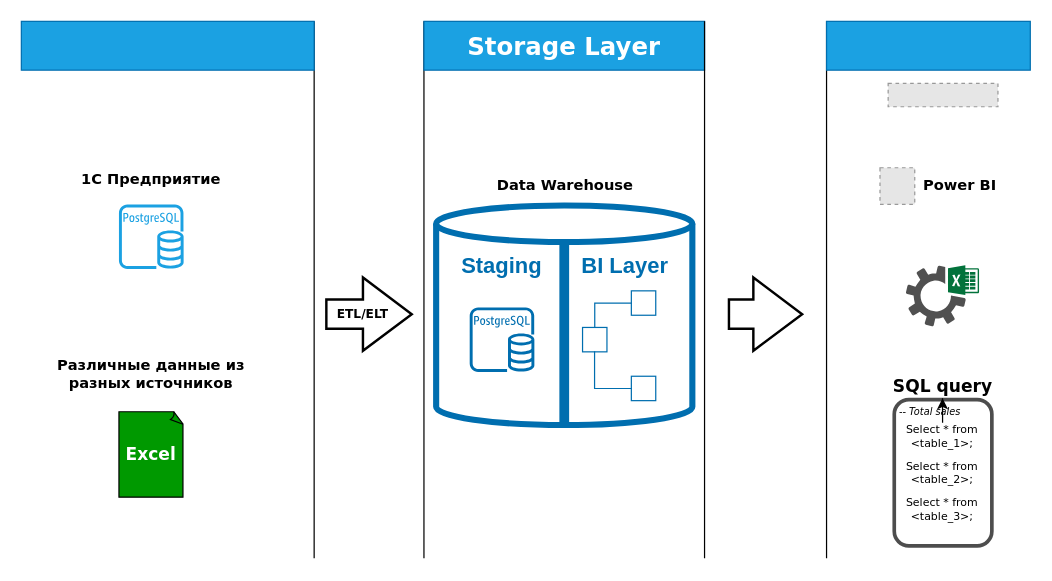
This 1052x581 diagram has some shape labels left out. Grey dashed boxes stand in for pictures. Each missing label, with the box of its shape:
Access Layer: (825, 20, 1030, 70)
Source Layer: (20, 20, 314, 70)
